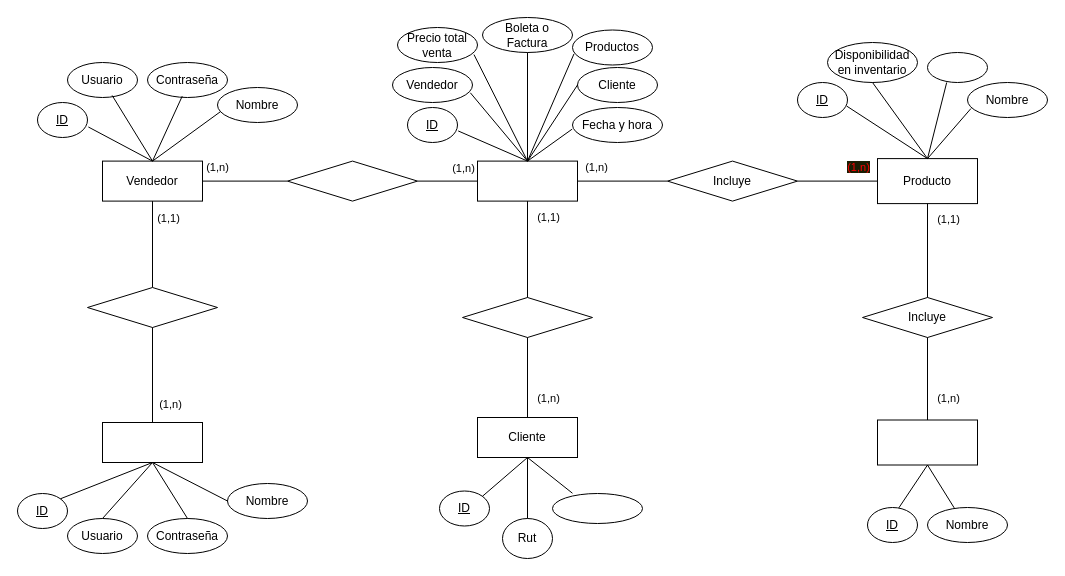
Some shapes in this 1065 by 576 pixel diagram are drawn without their labels. Each missing label, with the centre of its shape:
Categoria: the point at 927,442
Compra: the point at 527,317
Jefe de ventas: the point at 152,442
N° de compras: the point at 597,508
Precio: the point at 957,67
Realiza: the point at 352,180
Tiene: the point at 152,307
Venta: the point at 527,180
